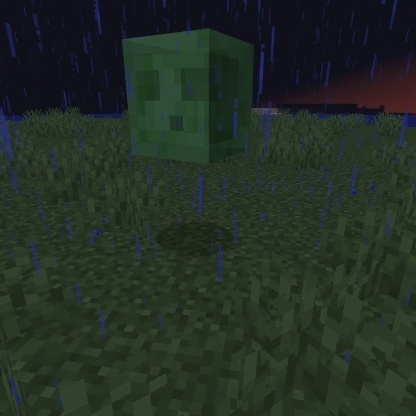slime: (115, 24, 259, 170)
